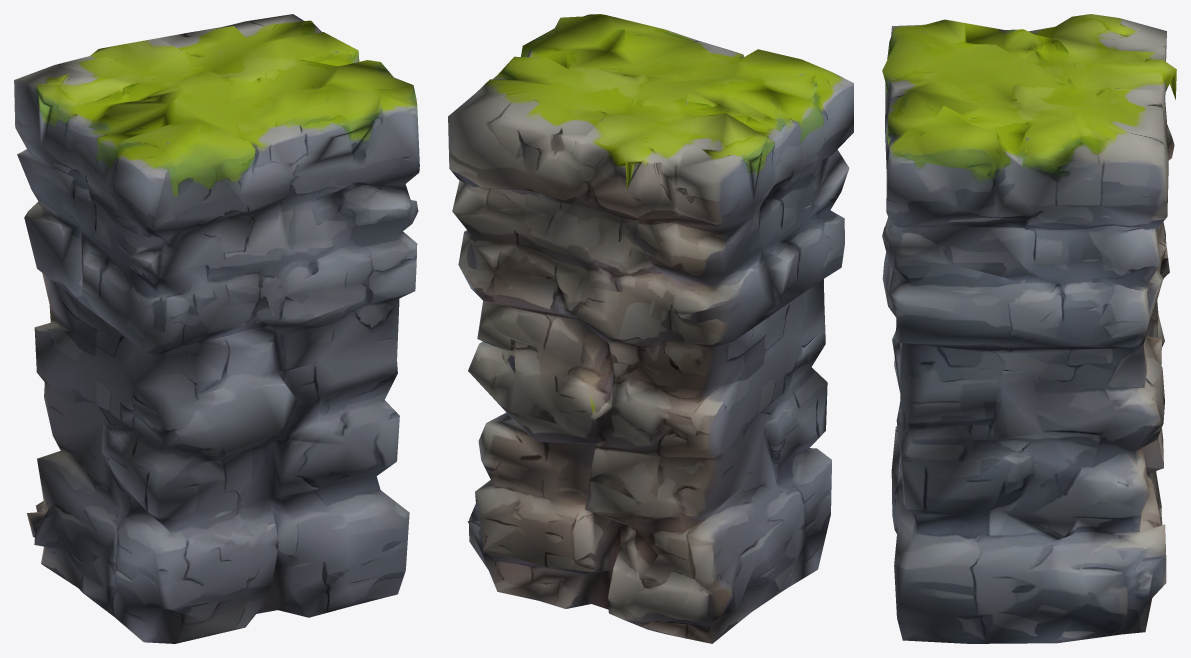
File: env-rock2.glb
The picture shows the model from 3 angles, left to right: view 1: azimuth 30°, elevation 25°; view 2: azimuth 150°, elevation 25°; view 3: azimuth 270°, elevation 25°; orthographic projection. The views are drawn at different scales.
Parts seen in each view (by area): view 1: tripo_node_f471cabe-a729-4bd2-bf79-c639f391b94c; view 2: tripo_node_f471cabe-a729-4bd2-bf79-c639f391b94c; view 3: tripo_node_f471cabe-a729-4bd2-bf79-c639f391b94c.
Part boxes in pixels (box(x1,y1,x2,y2)): tripo_node_f471cabe-a729-4bd2-bf79-c639f391b94c: box(14, 14, 419, 643); tripo_node_f471cabe-a729-4bd2-bf79-c639f391b94c: box(448, 14, 853, 643); tripo_node_f471cabe-a729-4bd2-bf79-c639f391b94c: box(882, 14, 1176, 643).
Size of the model in its own units: 0.5961 by 0.9969 by 0.52.
Materials: 1 (1 with a texture image).
